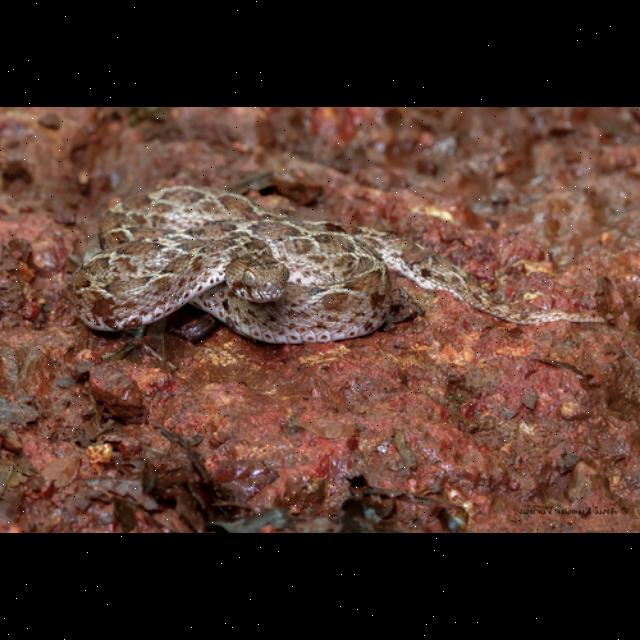snake: (70, 180, 606, 358)
